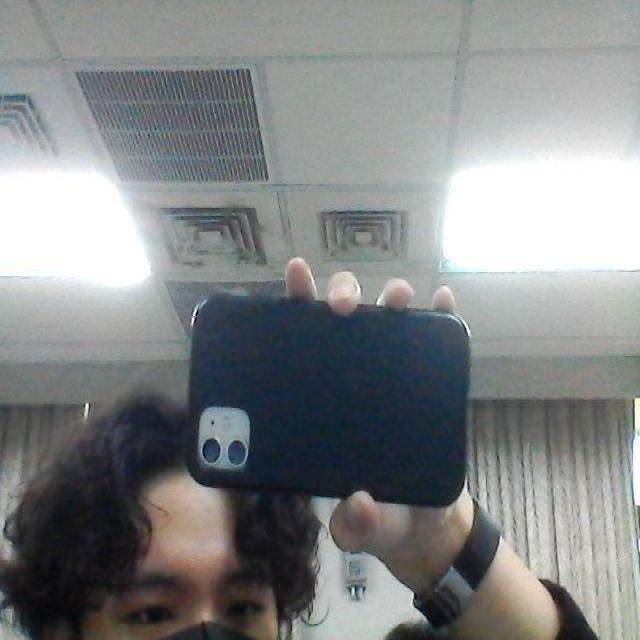lens: (201, 404, 250, 468)
phone: (181, 278, 476, 518)
